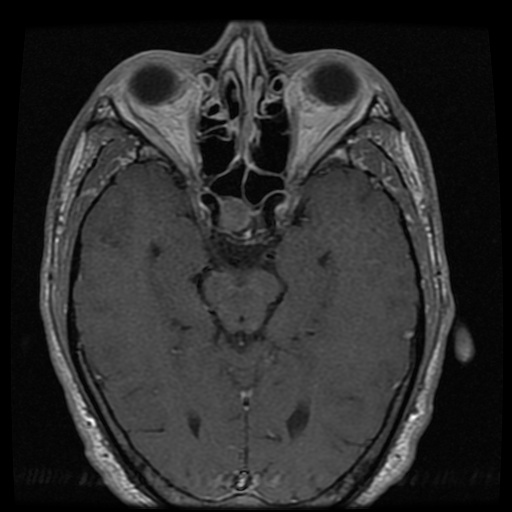pituitary: (218, 194, 254, 231)
